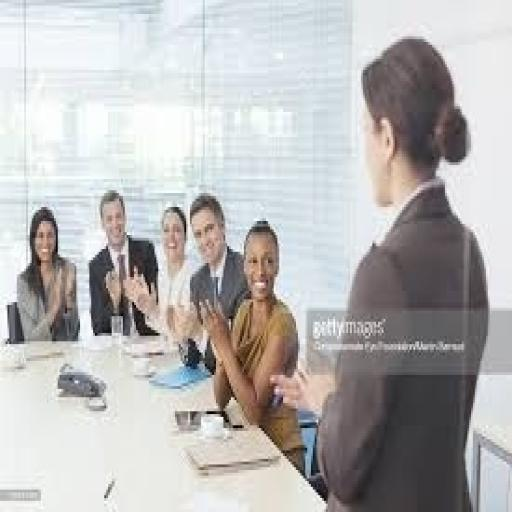clapping: (150, 194, 354, 482), (120, 140, 308, 388), (121, 125, 202, 364), (86, 188, 160, 338), (13, 204, 80, 344)
